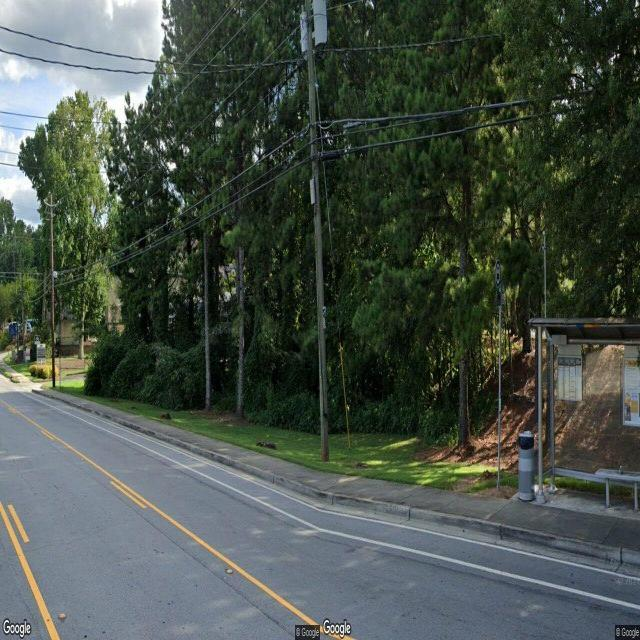seating: (595, 468, 640, 512)
shelter: (528, 316, 640, 516)
trash_can: (517, 435, 535, 500)
